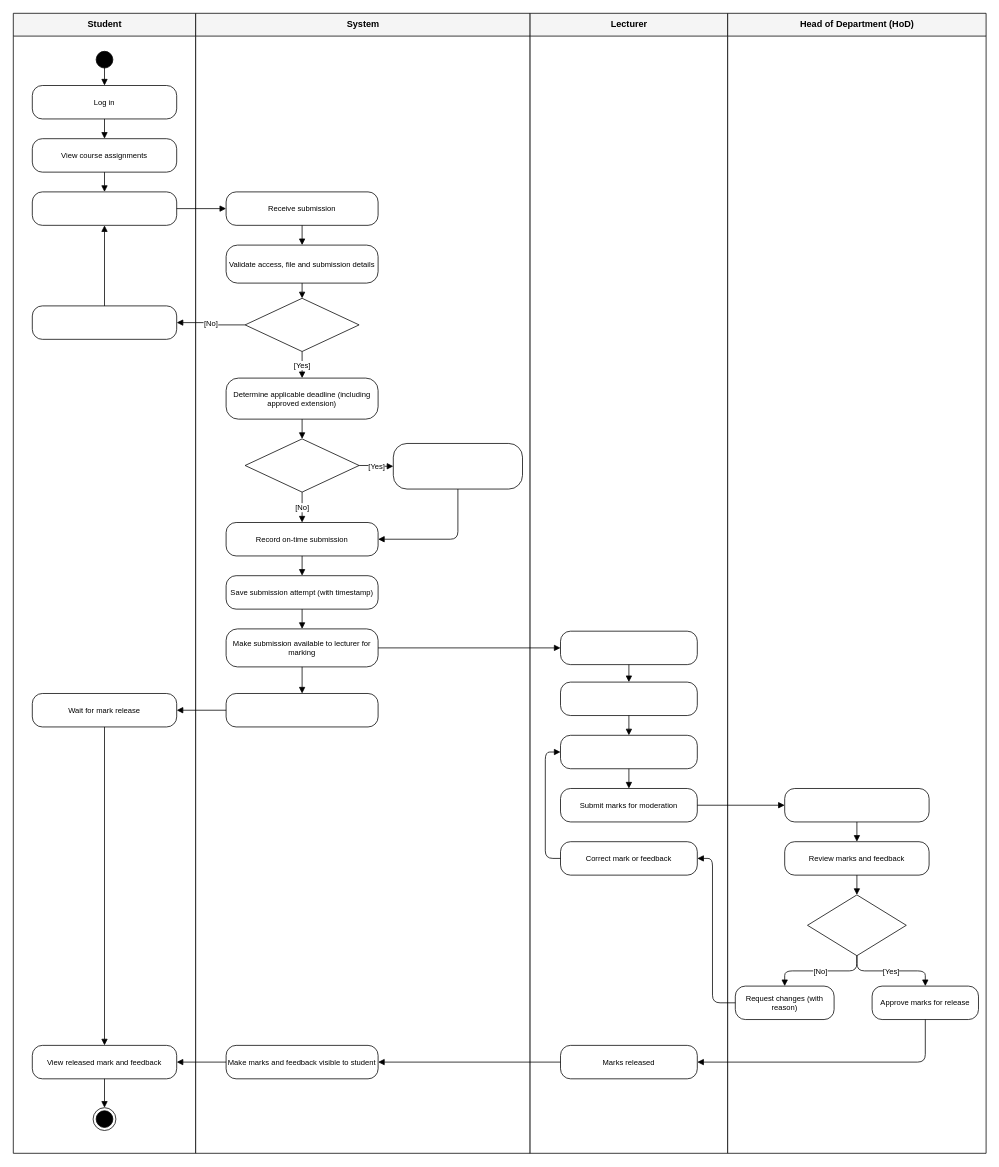
This 999x1167 diagram has some shape labels left out. The shapes that lost their labels are listed below. From the top down, each one's centre as x and y in pixels, then its label:
the point at 104,208: Select assignment and submit file
the point at 104,322: Correct submission details
the point at 301,325: Submission valid?
the point at 301,465: Submitted after deadline?
the point at 457,466: Calculate late penalty (10% per day up to 3 days, then zero if more than 3 days)
the point at 628,647: Open submission
the point at 301,710: Keep marks hidden from students
the point at 628,698: Assess submission
the point at 628,752: Enter mark and feedback
the point at 856,805: Receive marks for moderation
the point at 856,925: Approve marks?
